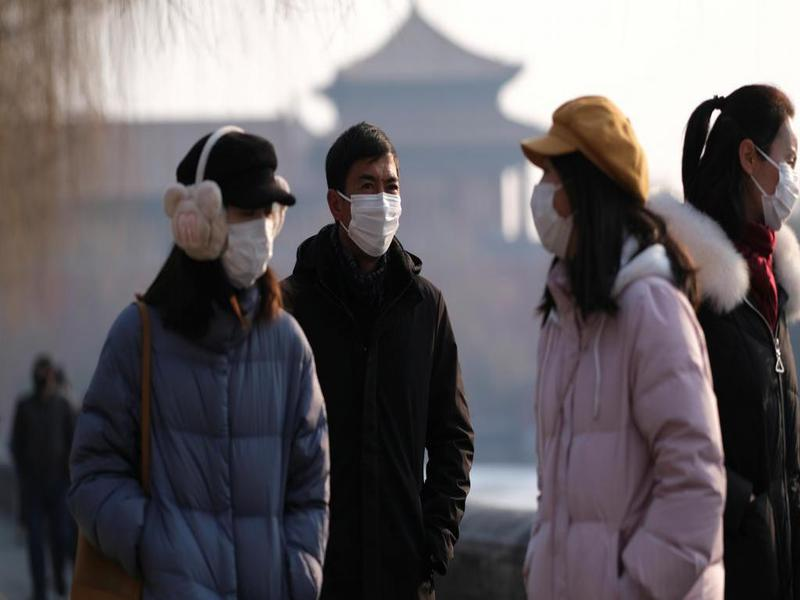with_mask: (713, 85, 800, 238), (322, 121, 404, 259), (216, 201, 276, 293), (521, 157, 575, 259)
